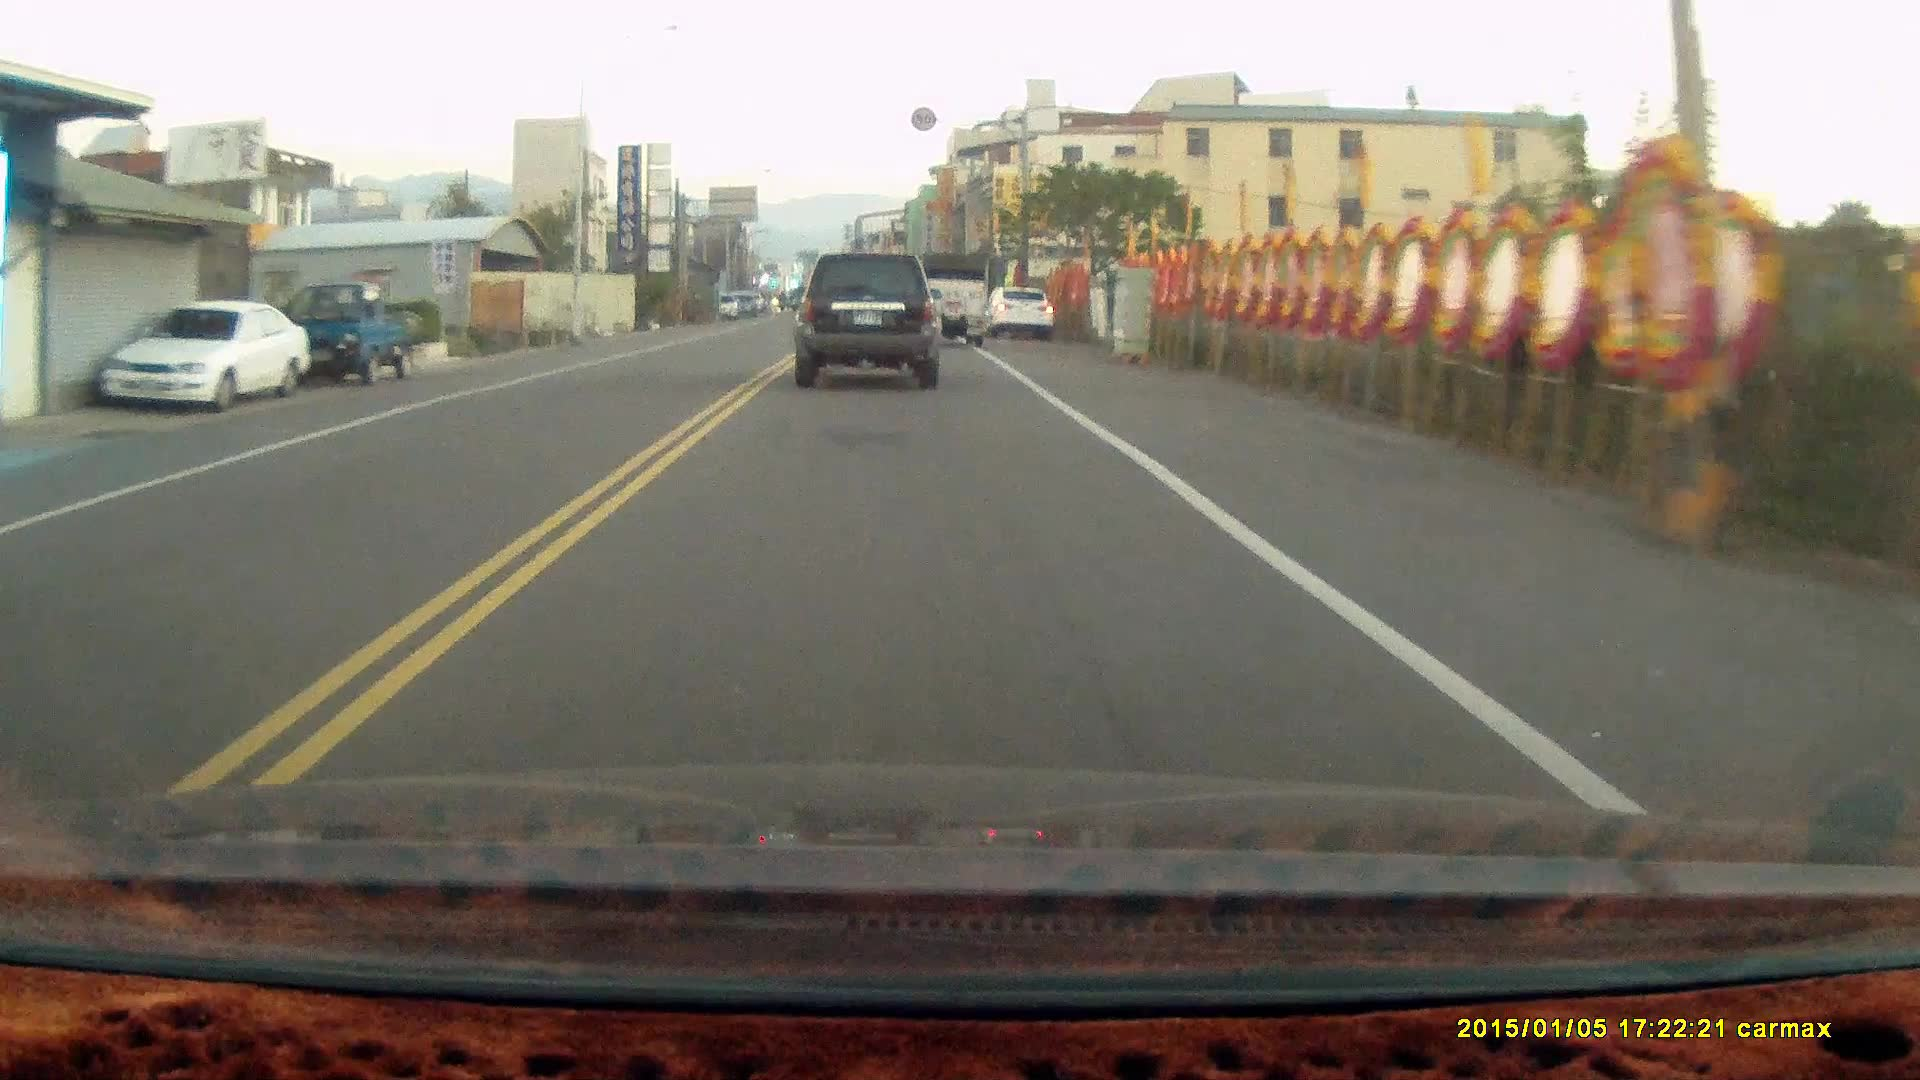vehicle: (98, 301, 307, 413), (796, 255, 945, 396), (274, 285, 431, 394), (915, 253, 993, 353), (992, 286, 1058, 345)
